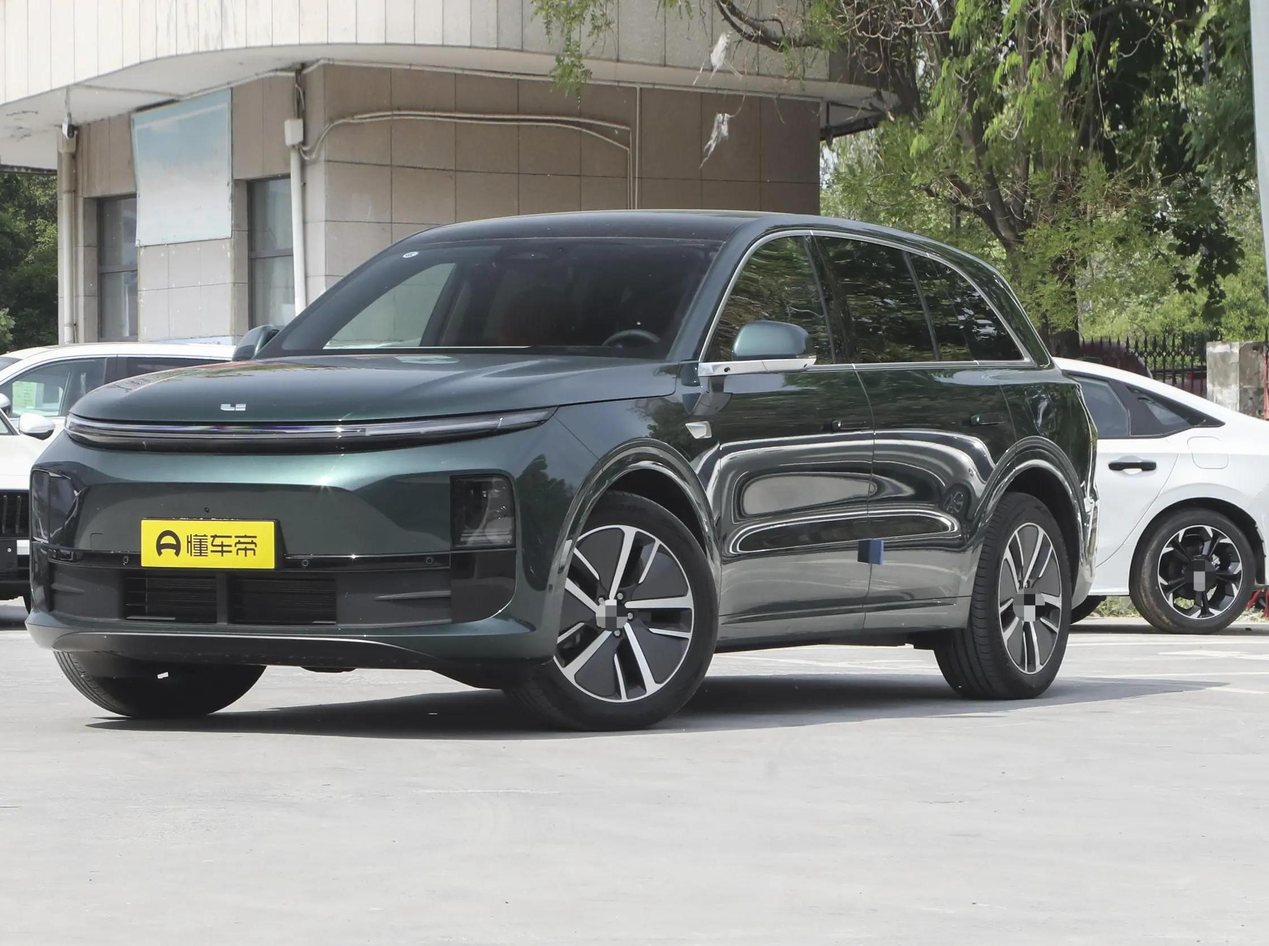Li Auto: (220, 402, 247, 411)
